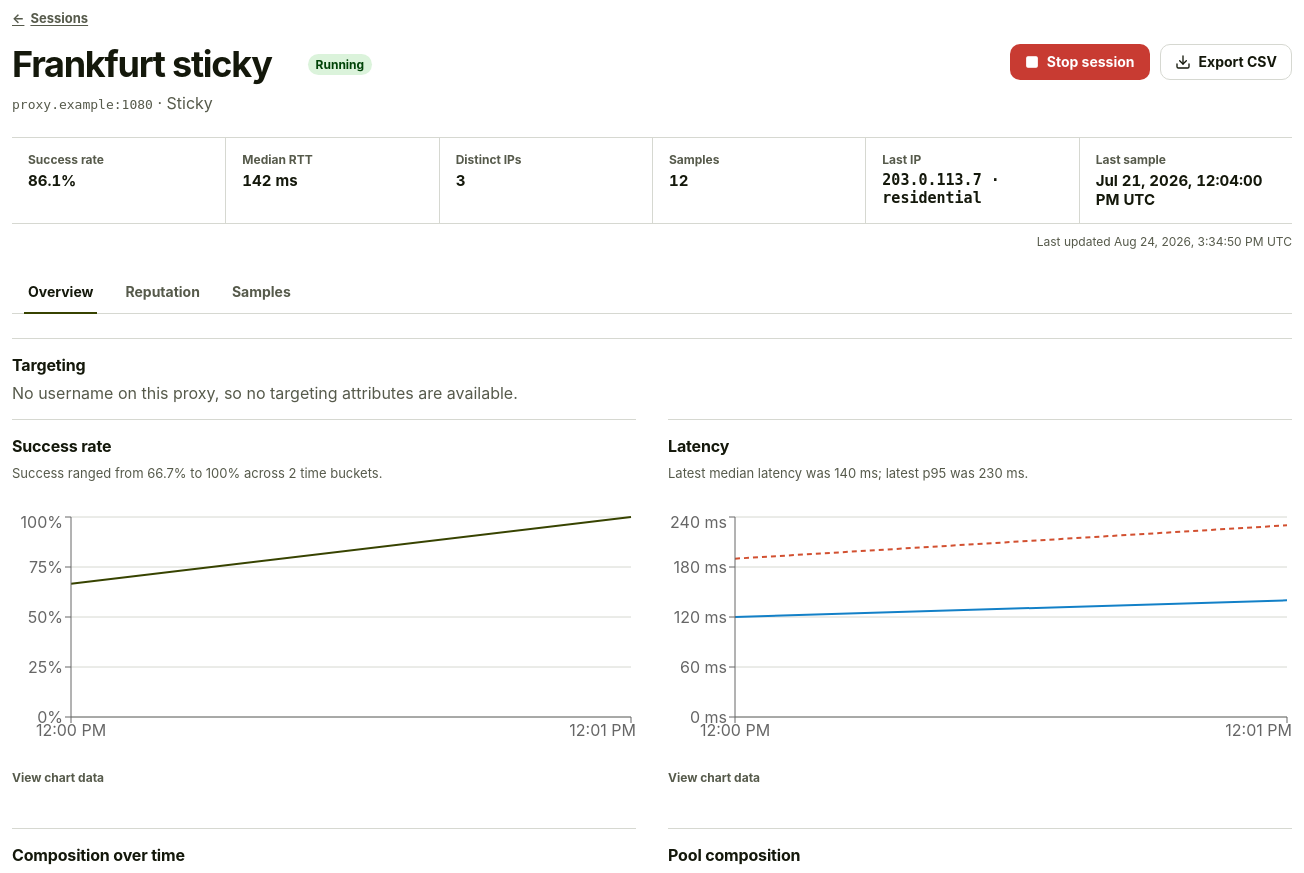
SessionPage › surfaces a failed rename without losing the typed name
The image size is (1304, 873).
Click the button with aria-label "Rename session name": (154, 65) x1=12 y1=44 x2=296 y2=85
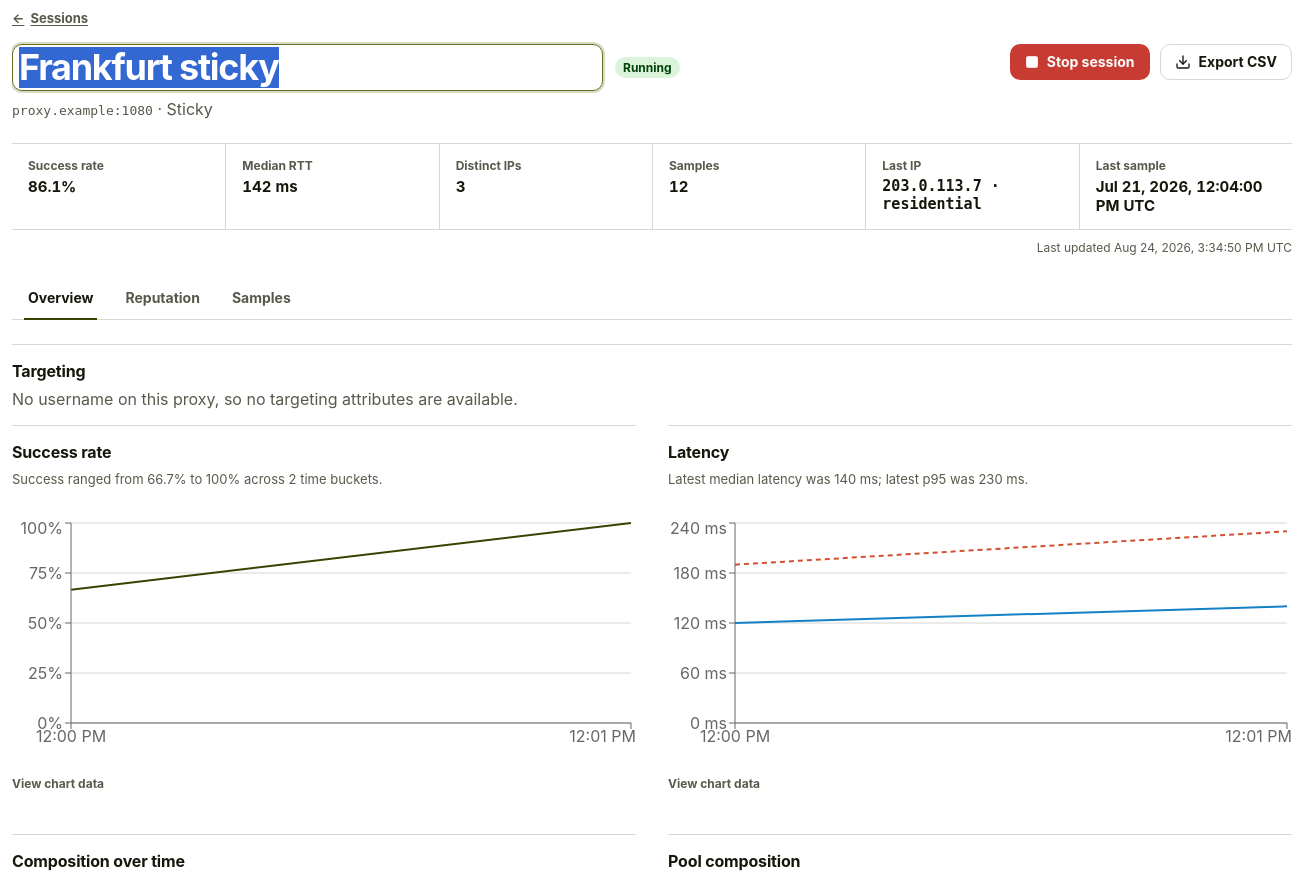
Replace the text in the field named "session name" with "Rejected name": (308, 68) x1=12 y1=44 x2=603 y2=91
Then press Enter
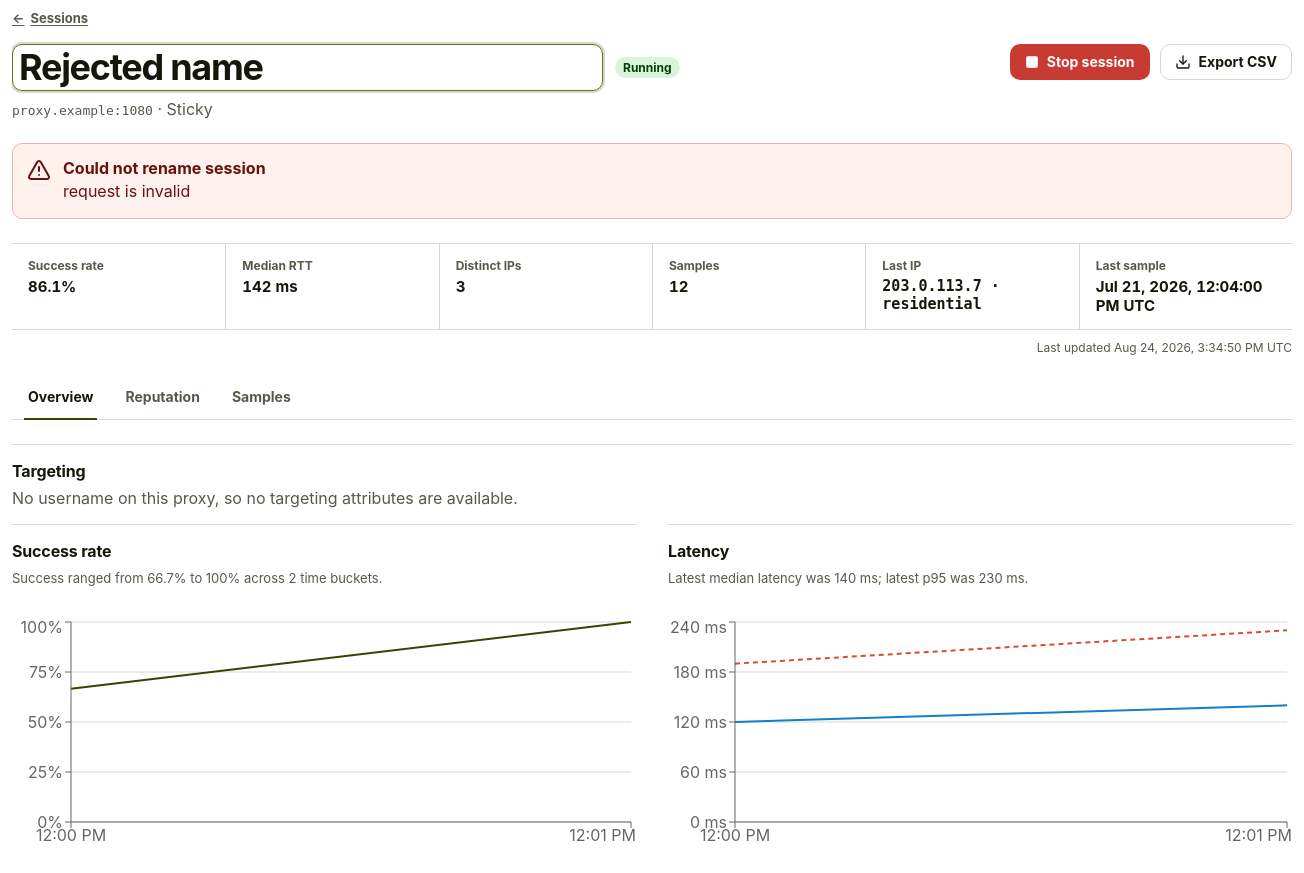
Expected: the text "Could not rename session" is shown, x1=63 y1=158 x2=266 y2=178
